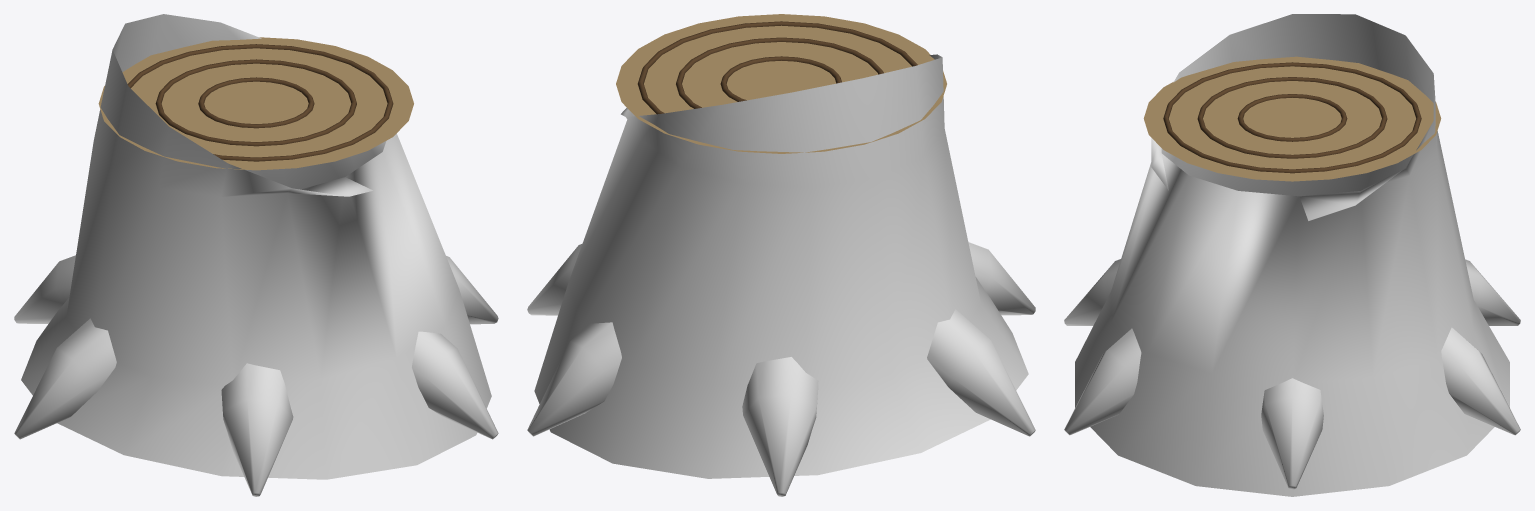
The model's file is SM_DF_Stump_0.fbx.
The picture shows the model from 3 angles, left to right: view 1: azimuth 30°, elevation 25°; view 2: azimuth 150°, elevation 25°; view 3: azimuth 270°, elevation 25°; orthographic projection. The views are drawn at different scales.
Visible parts, largest first — view 1: SM_DF_Stump_0; view 2: SM_DF_Stump_0; view 3: SM_DF_Stump_0.
Part boxes in pixels (left/top/right/bottom): SM_DF_Stump_0: left=14, top=14, right=498, bottom=496; SM_DF_Stump_0: left=527, top=14, right=1035, bottom=496; SM_DF_Stump_0: left=1064, top=14, right=1520, bottom=496.
Size of the model in its own units: 152 by 132 by 108.
